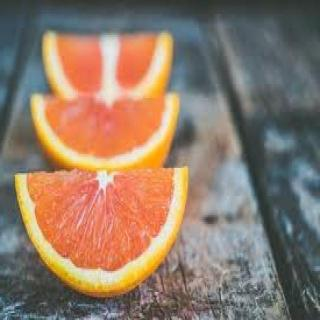orange: (0, 152, 197, 316), (19, 87, 185, 180), (36, 20, 182, 114)
